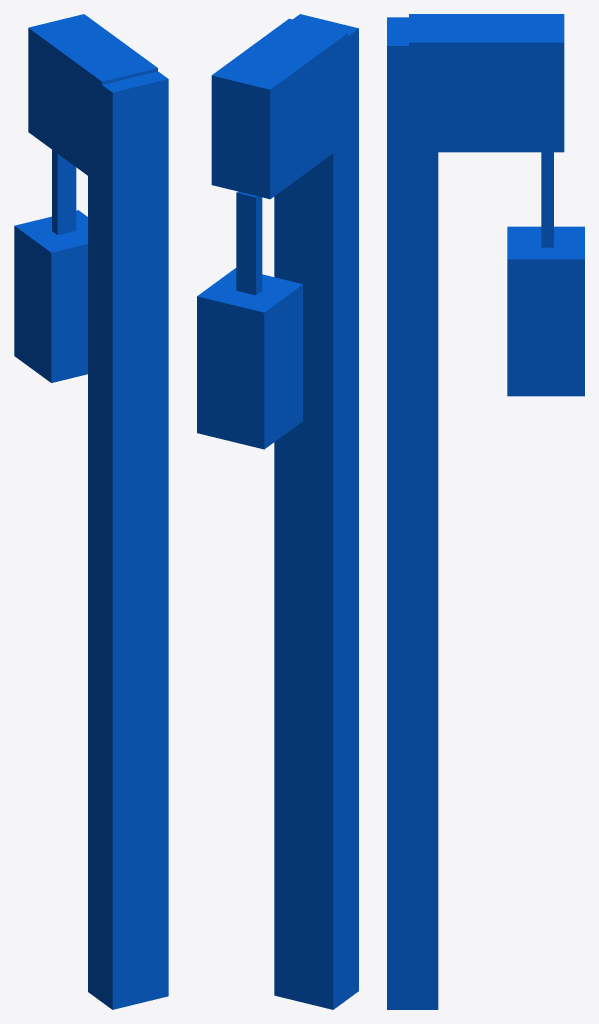
Rendered from lvl1_lampPost.fbx.
3 views of the same model, side by side, from view 1: azimuth 30°, elevation 25°; view 2: azimuth 150°, elevation 25°; view 3: azimuth 270°, elevation 25° (orthographic). The views are drawn at different scales.
Visible parts, largest first — view 1: pCube18; view 2: pCube18; view 3: pCube18.
Part boxes in pixels (x1,y1,x2,y2): pCube18: (14,14,168,1009); pCube18: (197,14,358,1009); pCube18: (387,14,584,1009).
Size of the model in its own units: 13.4 by 184 by 34.12.
